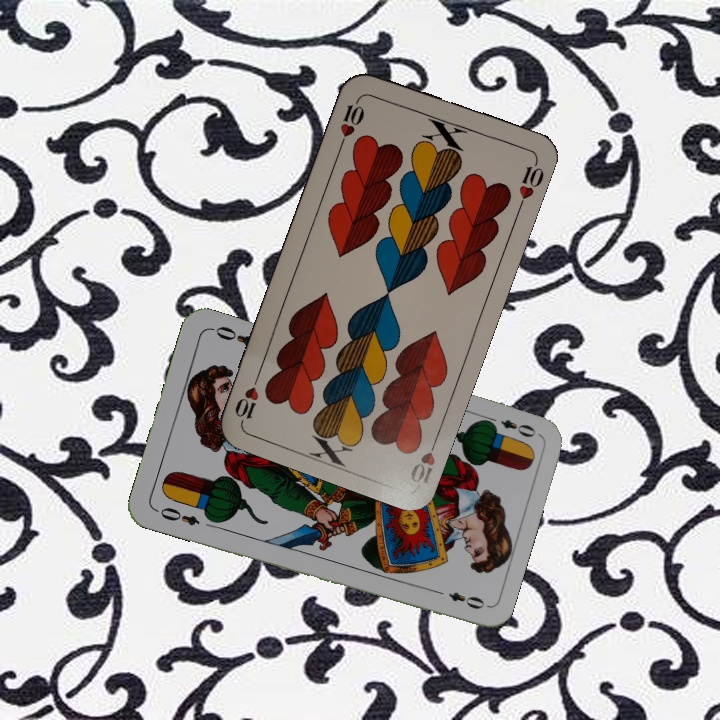EO: (482, 412, 539, 440), (151, 503, 202, 529)
H10: (405, 431, 443, 488), (335, 93, 367, 150)
